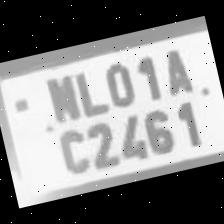0: (97, 54, 138, 110)
1: (167, 92, 209, 150), (127, 49, 165, 104)
2: (80, 112, 120, 172)
4: (108, 106, 149, 163)
6: (138, 103, 179, 159)
A: (154, 41, 196, 100)
C: (50, 119, 92, 179)
L: (69, 64, 106, 116)
N: (38, 70, 81, 126)
